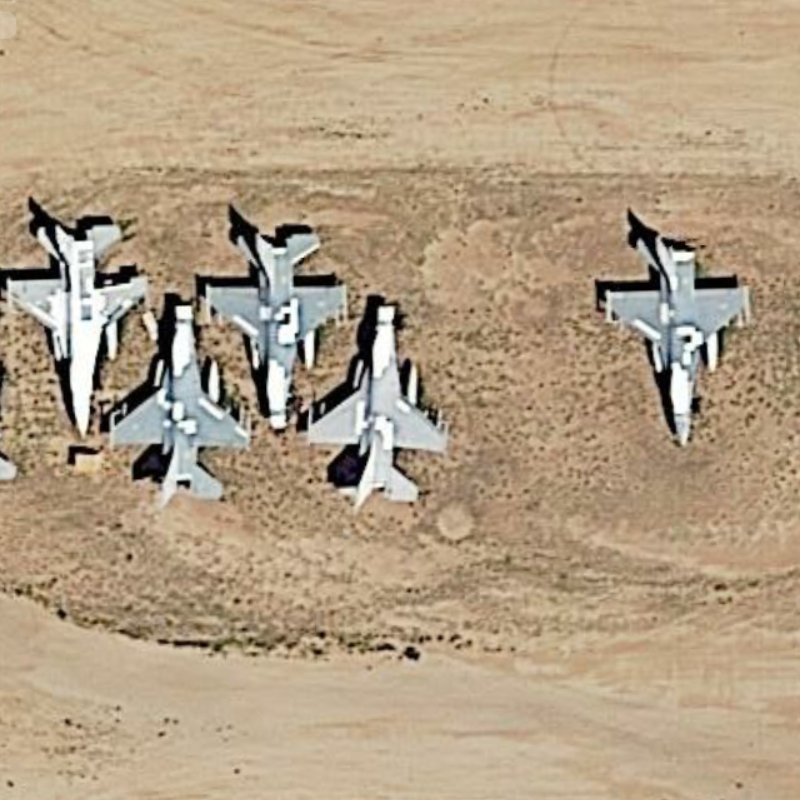A5: (595, 223, 754, 459), (298, 290, 461, 515), (206, 213, 365, 439), (4, 204, 148, 441), (106, 293, 257, 506)
